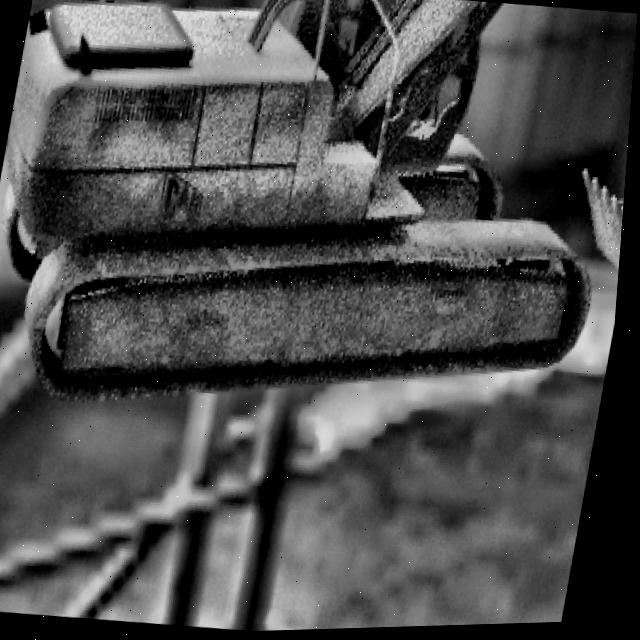excavator: (0, 0, 640, 457)
